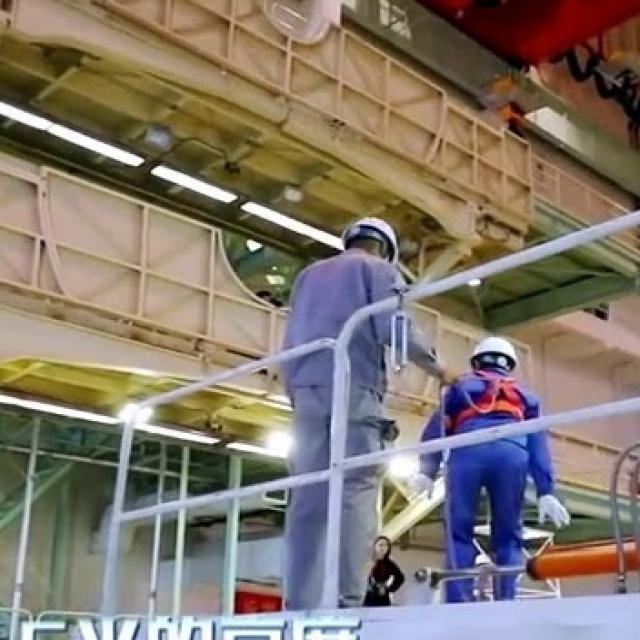Arnes_seguridad: (437, 363, 535, 426)
